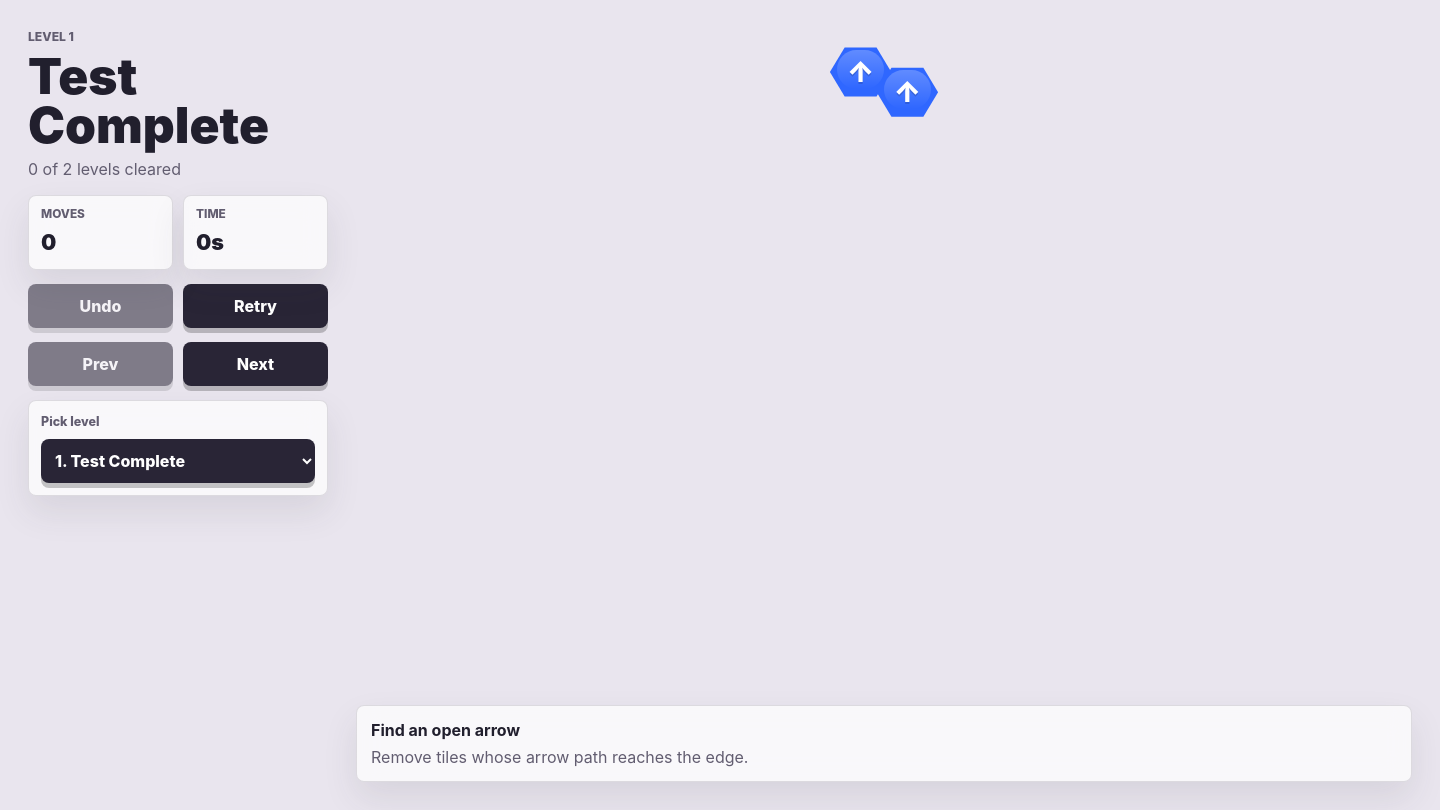
GameScreen › shows_completion_state_when_the_last_tile_is_removed
This screenshot has width=1440, height=810.
Click the button named "Tile test-a arrow up": (861, 72) left=830, top=46, right=891, bottom=98
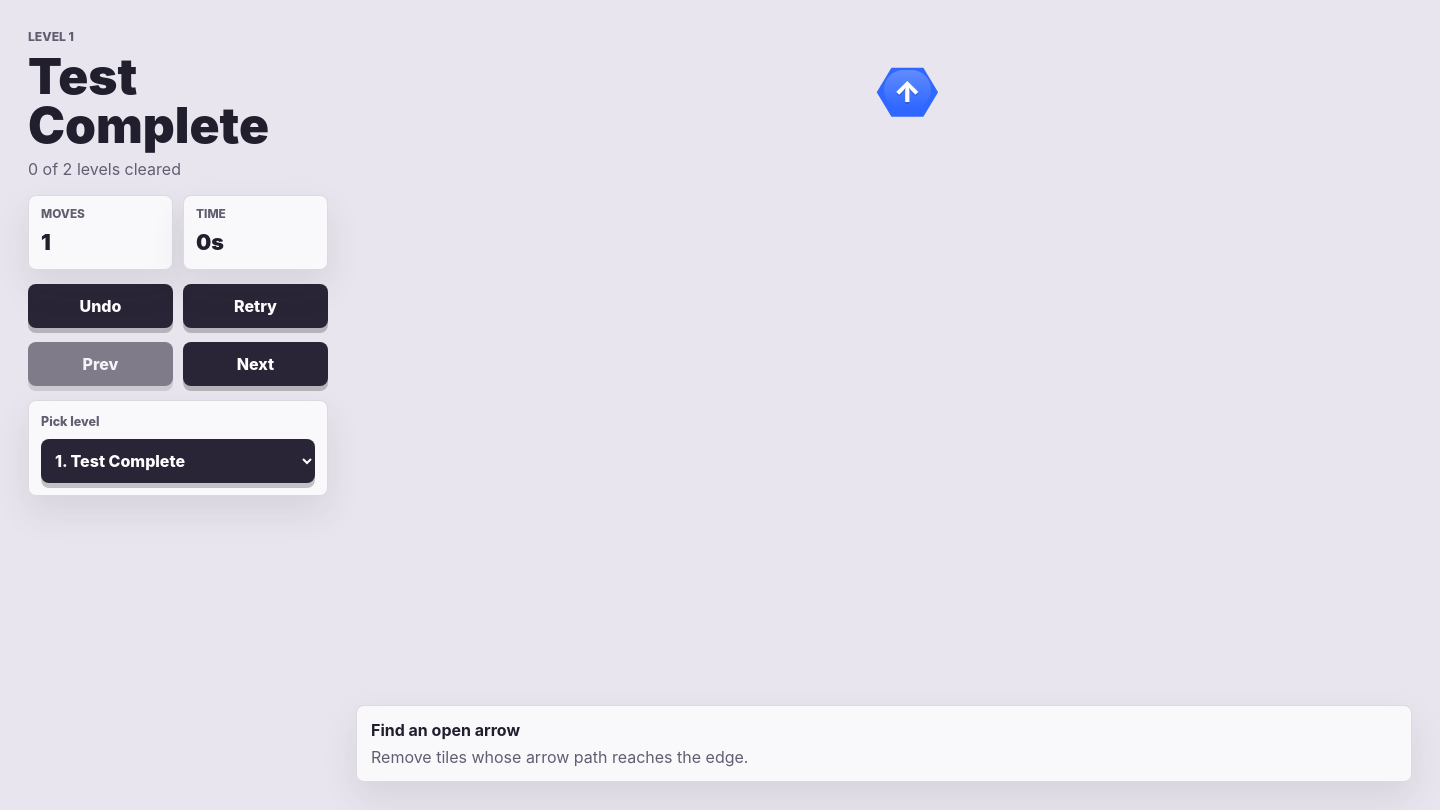
Click the button named "Tile test-b arrow up": (907, 92) left=877, top=66, right=938, bottom=118
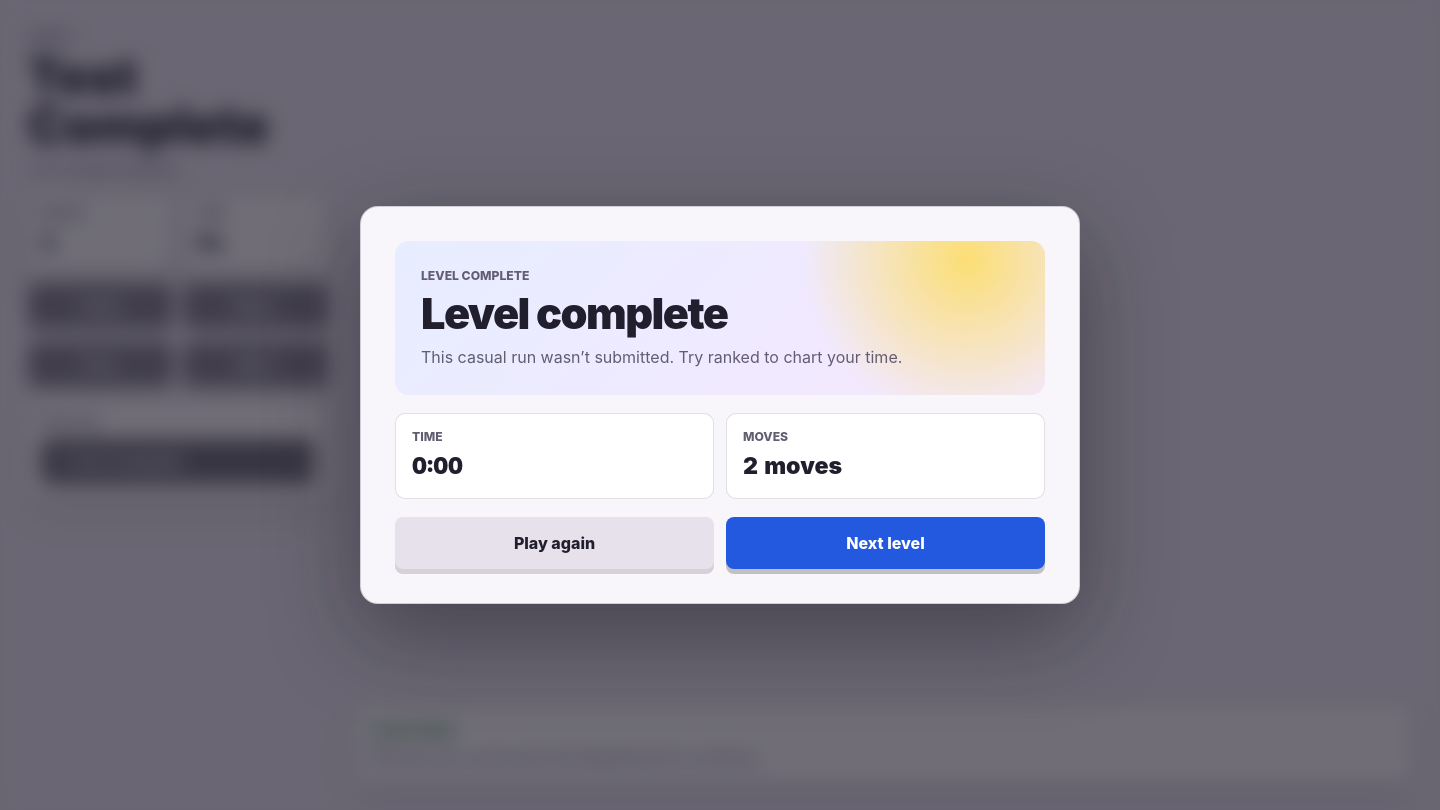
expect the dialog "Level complete" is shown: met, box left=360, top=206, right=1080, bottom=604
expect the text "2 moves" is shown: met, box left=743, top=452, right=842, bottom=480
expect the text "0:00" is shown: met, box left=412, top=452, right=463, bottom=480
